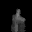person: (12, 9, 26, 31)
